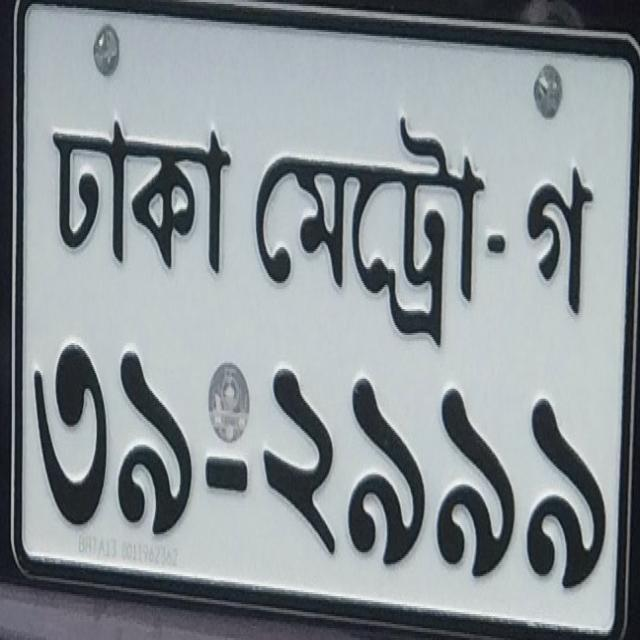cng: (92, 23, 120, 76)
numberplate: (2, 0, 638, 637)
